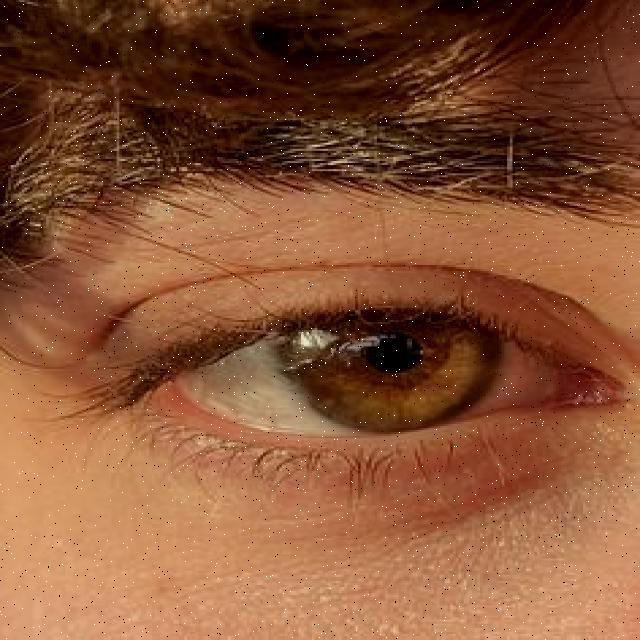Normal: (0, 175, 637, 638)
